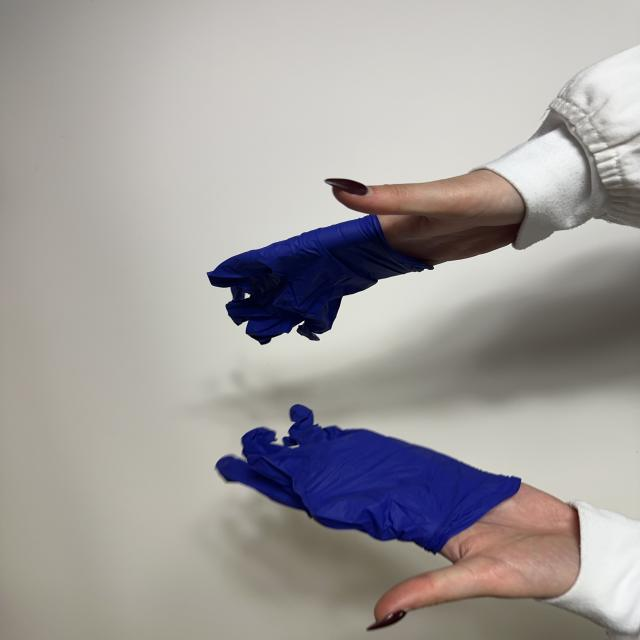glove_partial: (217, 405, 580, 630), (208, 170, 524, 344)
